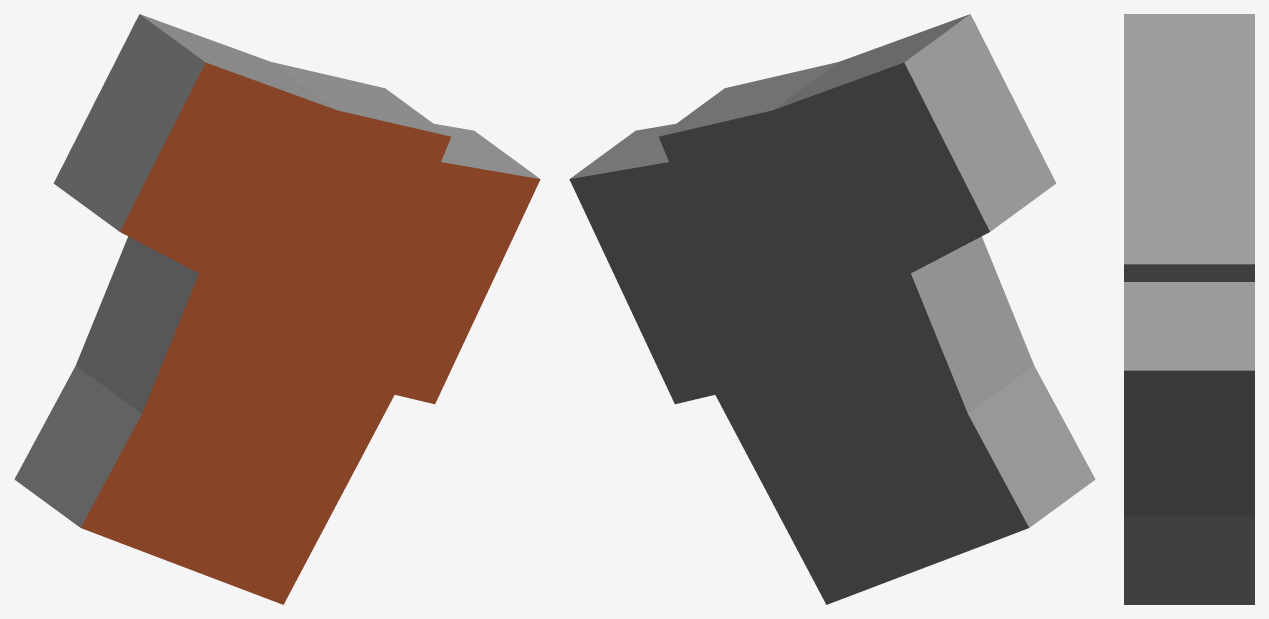
The model's file is construction_6692_assumed_A_Casa_h6m.obj.
3 views of the same model, side by side, from view 1: azimuth 30°, elevation 25°; view 2: azimuth 150°, elevation 25°; view 3: azimuth 270°, elevation 25° (orthographic).
Visible parts, largest first — view 1: construction_6692_assumed_A_Casa; view 2: construction_6692_assumed_A_Casa; view 3: construction_6692_assumed_A_Casa.
Boxes of the visible parts, bbox=[...] form: construction_6692_assumed_A_Casa: bbox=[14, 14, 540, 604]; construction_6692_assumed_A_Casa: bbox=[569, 14, 1095, 604]; construction_6692_assumed_A_Casa: bbox=[1124, 14, 1254, 604].
Bounding box in the file's own units: 24.04 × 28.04 × 6.
